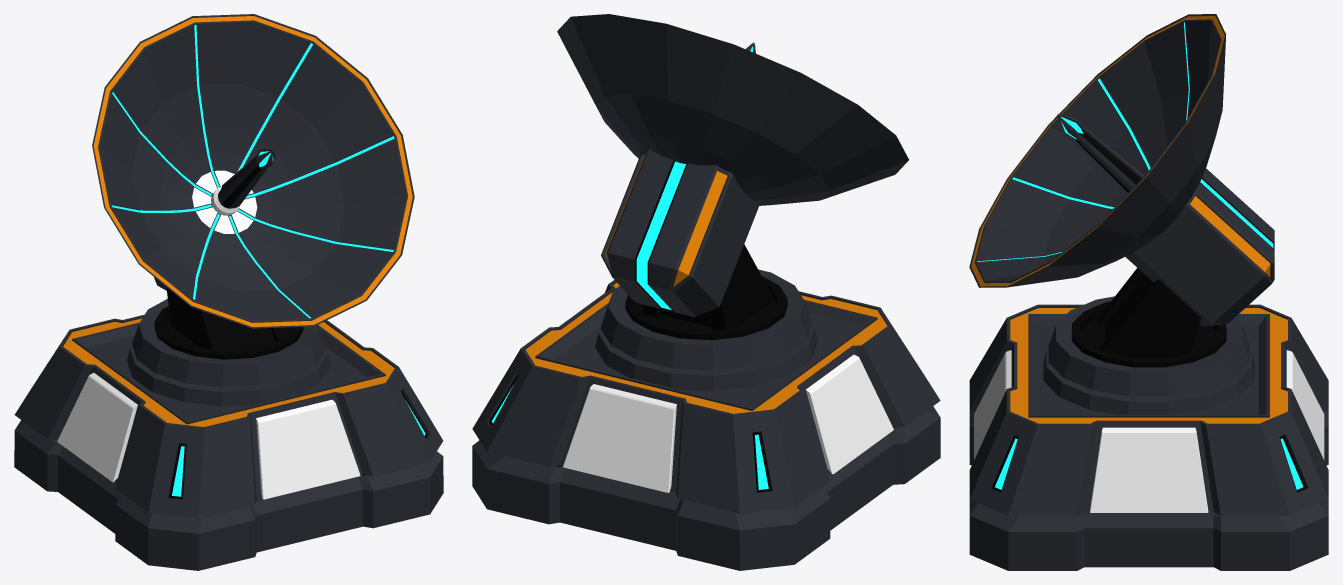
The model's file is SM_Turret_ScanArray.fbx.
3 views of the same model, side by side, from view 1: azimuth 30°, elevation 25°; view 2: azimuth 150°, elevation 25°; view 3: azimuth 270°, elevation 25° (orthographic). The views are drawn at different scales.
Visible parts, largest first — view 1: SM_Turret_ScanArray_Head_dish, SM_Turret_ScanArray, SM_Turret_ScanArray_Rotator; view 2: SM_Turret_ScanArray, SM_Turret_ScanArray_Head_dish, SM_Turret_ScanArray_Rotator; view 3: SM_Turret_ScanArray, SM_Turret_ScanArray_Head_dish, SM_Turret_ScanArray_Rotator.
Boxes of the visible parts, bbox=[...] form: SM_Turret_ScanArray_Head_dish: bbox=[92, 14, 414, 328]; SM_Turret_ScanArray: bbox=[14, 314, 443, 570]; SM_Turret_ScanArray_Rotator: bbox=[127, 287, 330, 406]; SM_Turret_ScanArray: bbox=[472, 280, 940, 570]; SM_Turret_ScanArray_Head_dish: bbox=[557, 14, 908, 316]; SM_Turret_ScanArray_Rotator: bbox=[595, 244, 817, 391]; SM_Turret_ScanArray: bbox=[969, 304, 1328, 570]; SM_Turret_ScanArray_Head_dish: bbox=[969, 14, 1274, 326]; SM_Turret_ScanArray_Rotator: bbox=[1043, 268, 1254, 414].
Bounding box in the file's own units: 1.01 × 1.42 × 1.
